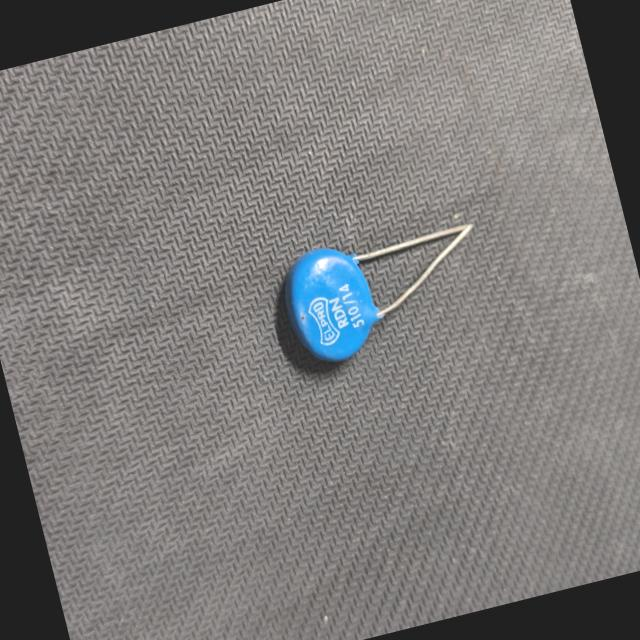capacitor: (259, 190, 503, 382)
